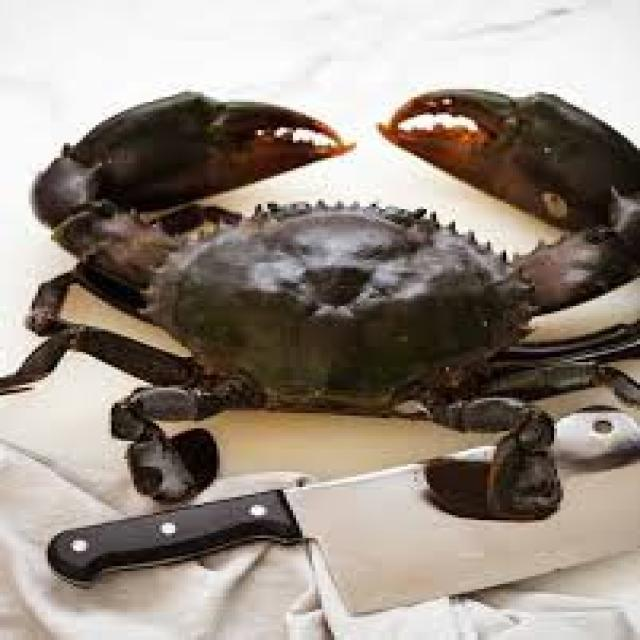crab: (61, 120, 566, 472)
